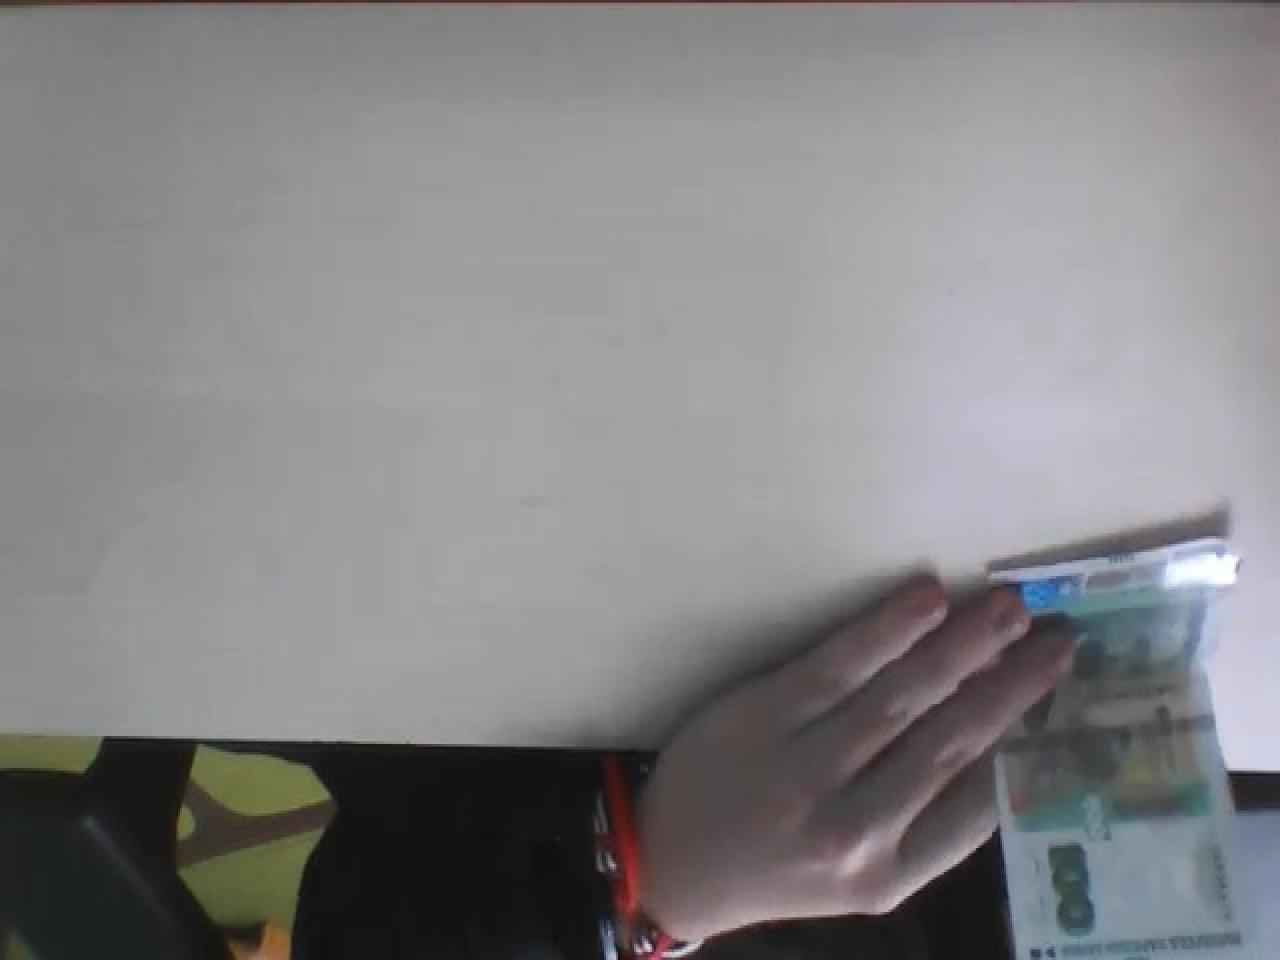100leva: (986, 536, 1250, 960)
